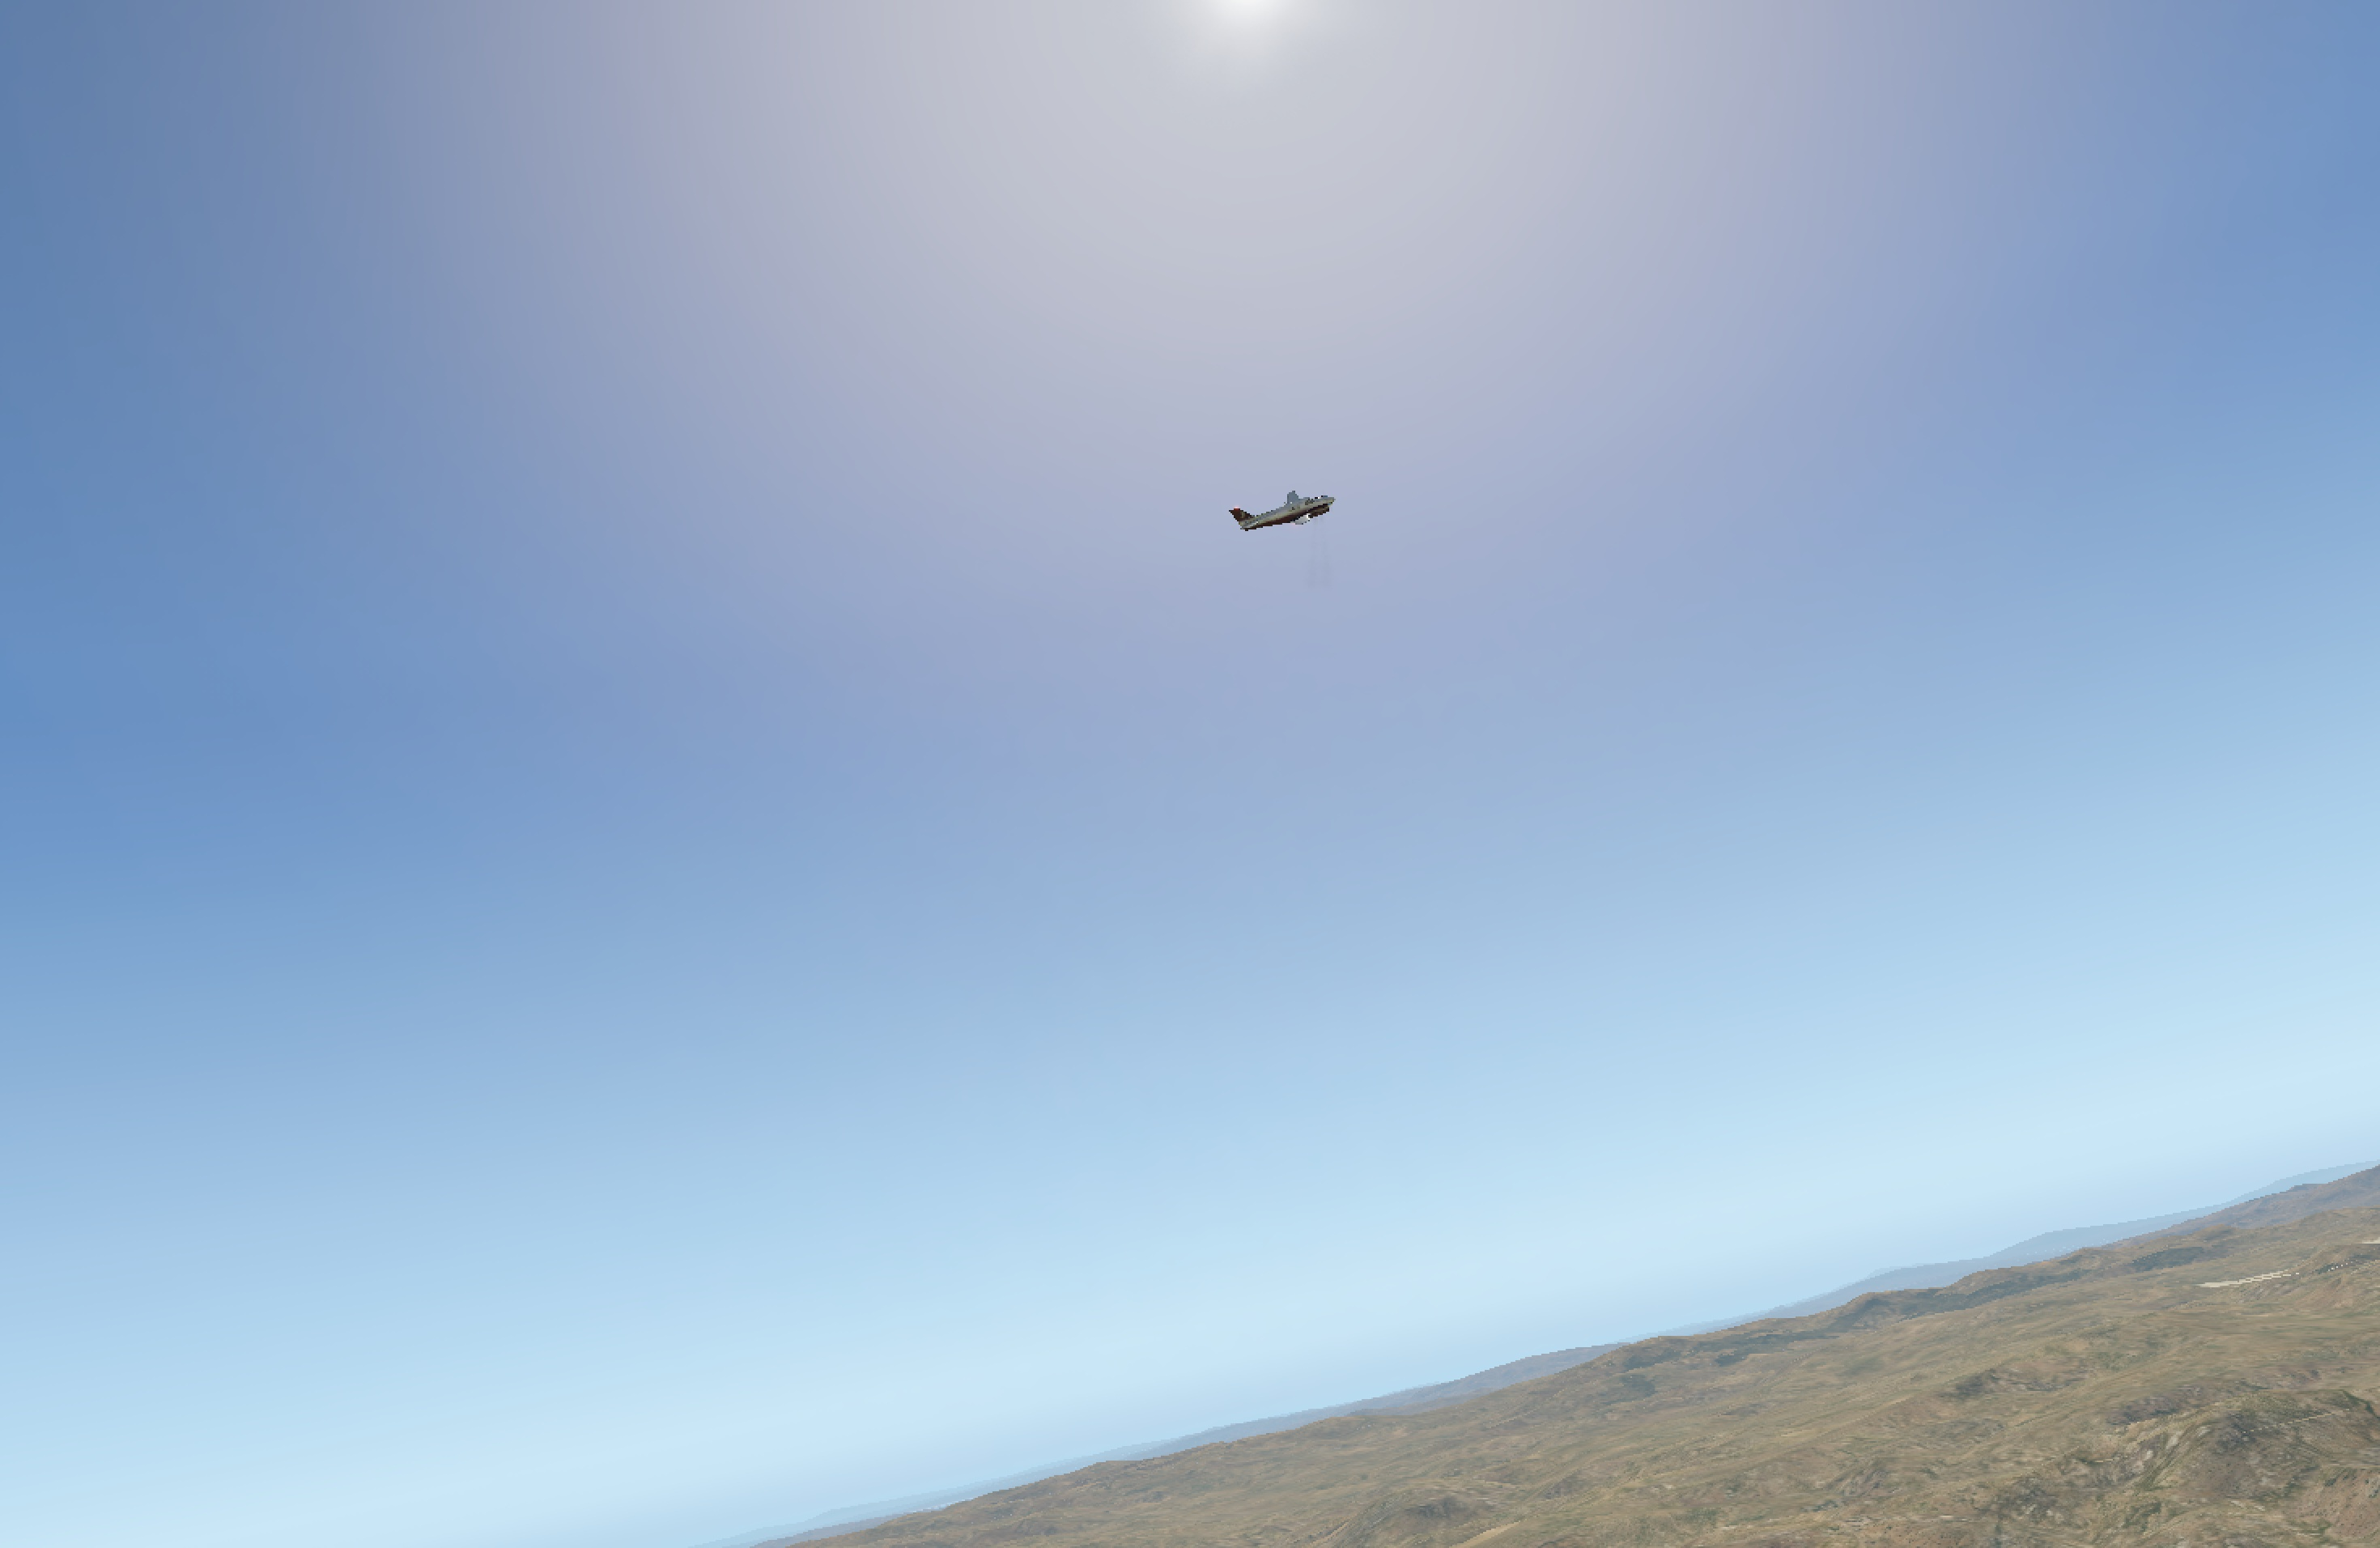aircraft: (1232, 486, 1379, 541)
